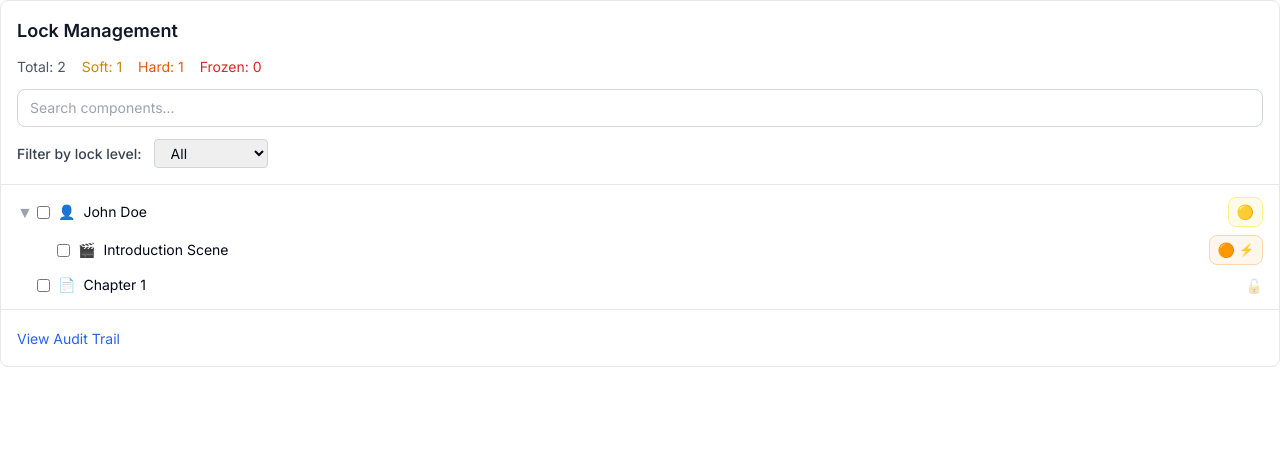
Test: LockManagementPanel › Bulk Operations › allows selecting multiple components
Click the checkbox next to "John Doe" at (44, 212), box [37, 206, 50, 218]
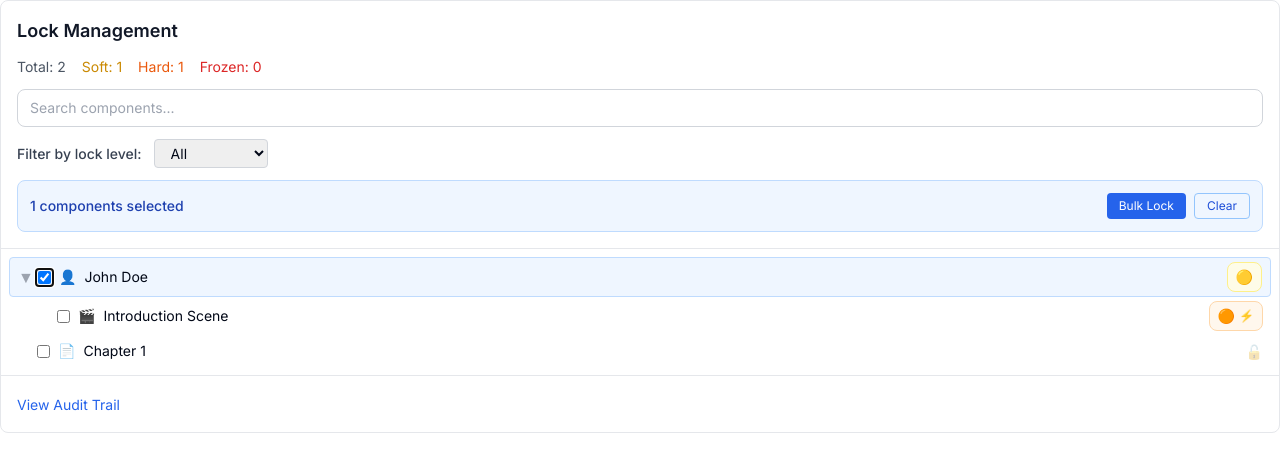
Click the checkbox next to "Introduction Scene" at (64, 316), box [57, 310, 70, 322]
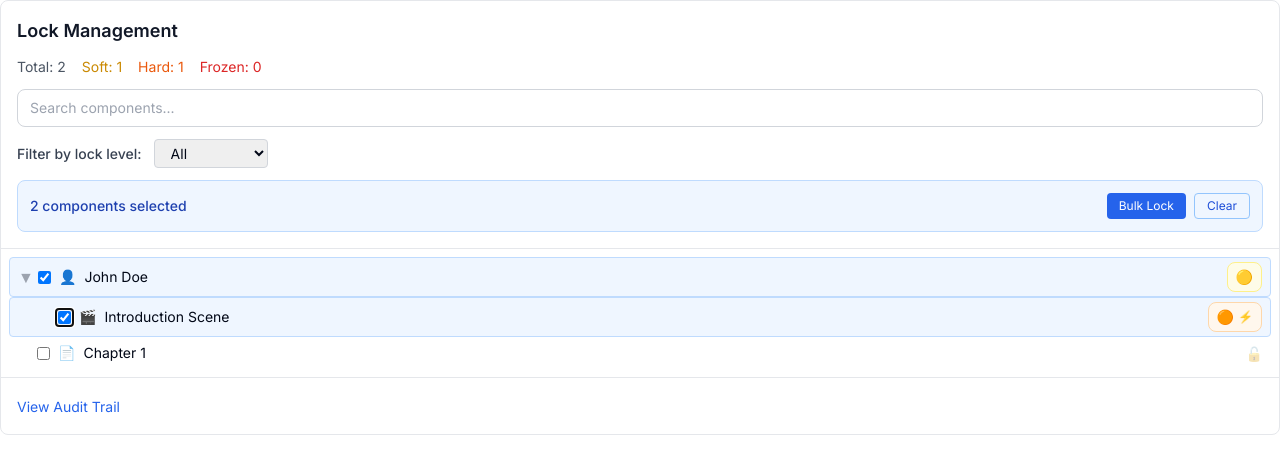
expect the text "2 components selected" is shown: met, box [30, 196, 186, 216]
